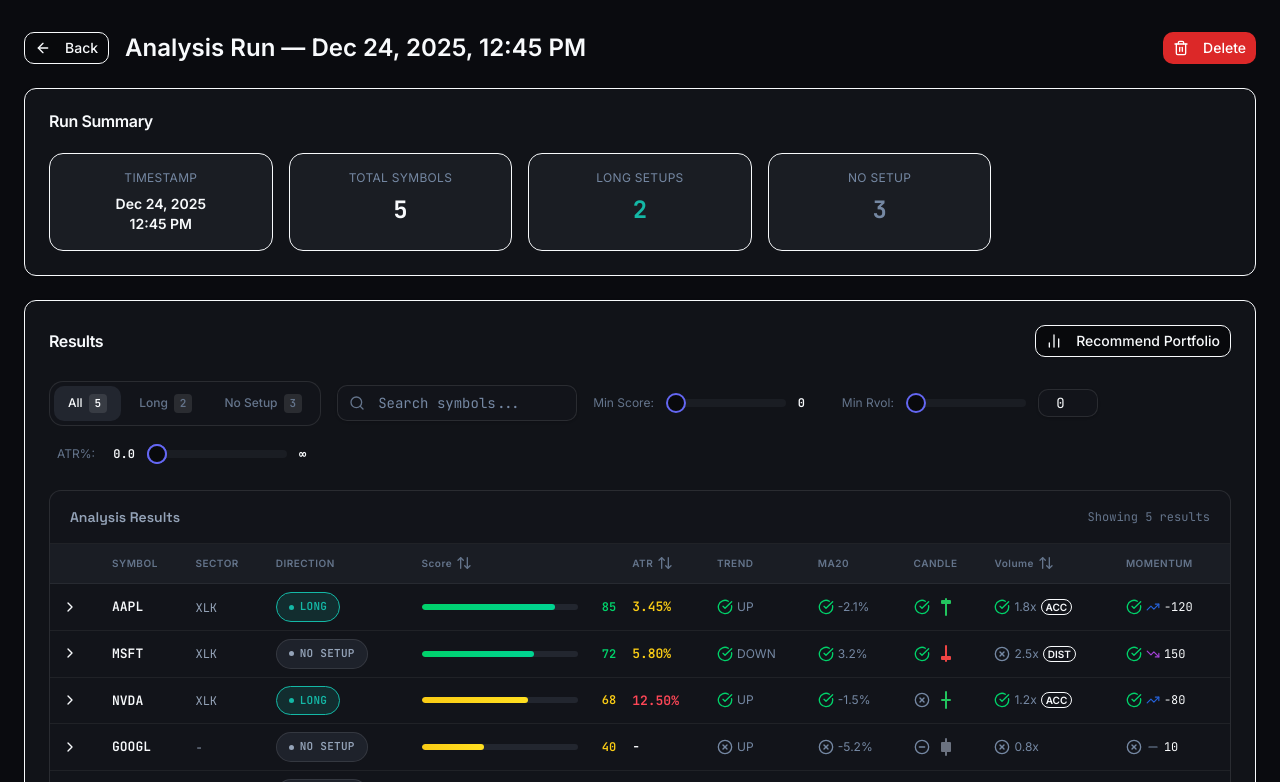
Test: Live20RunDetail › Success State › filters results by direction
The width and height of the screenshot is (1280, 782).
Check: the text "AAPL" is shown, box [112, 598, 143, 615]
# Click "Long" filter - button accessible name is "Long 2" (label + count)
Click the button "Long 2" at (166, 403), box [125, 386, 206, 421]
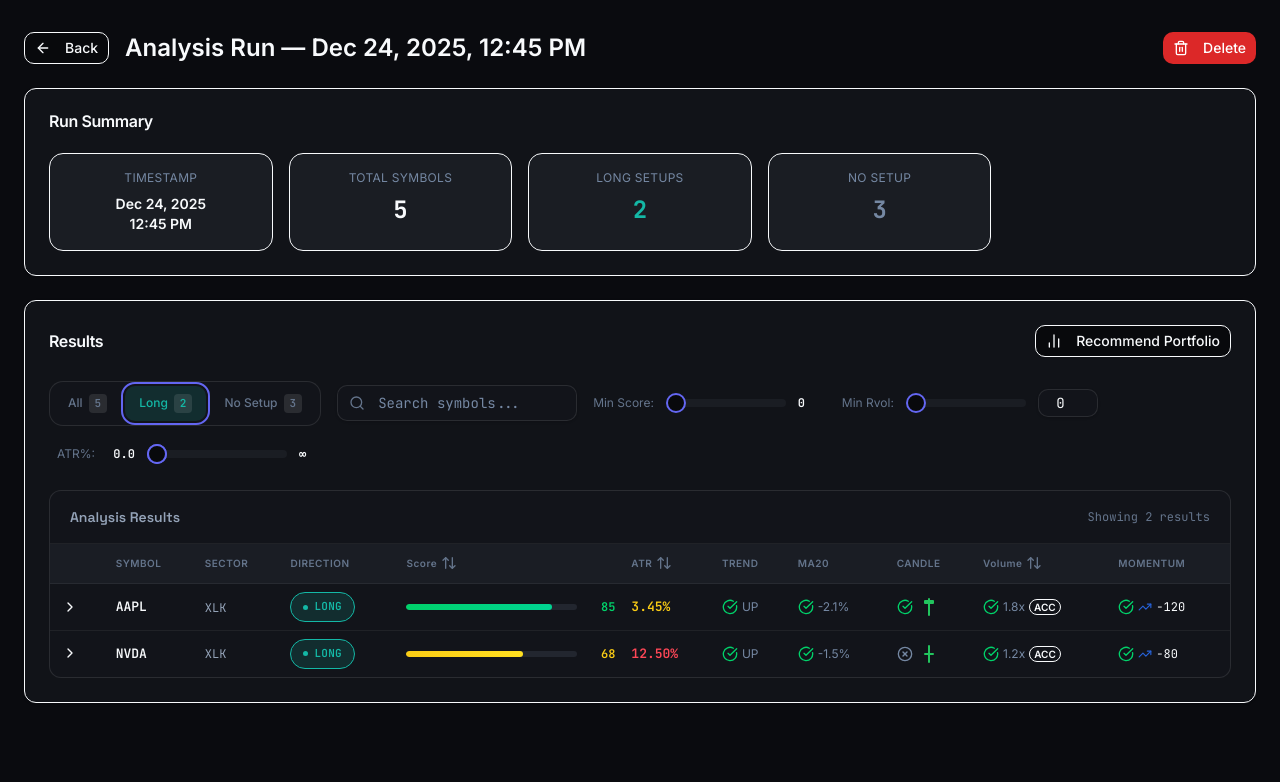
Check: the text "NVDA" is shown, box [116, 645, 147, 662]
Check: the text "MSFT" is gone
Check: the text "GOOGL" is gone
